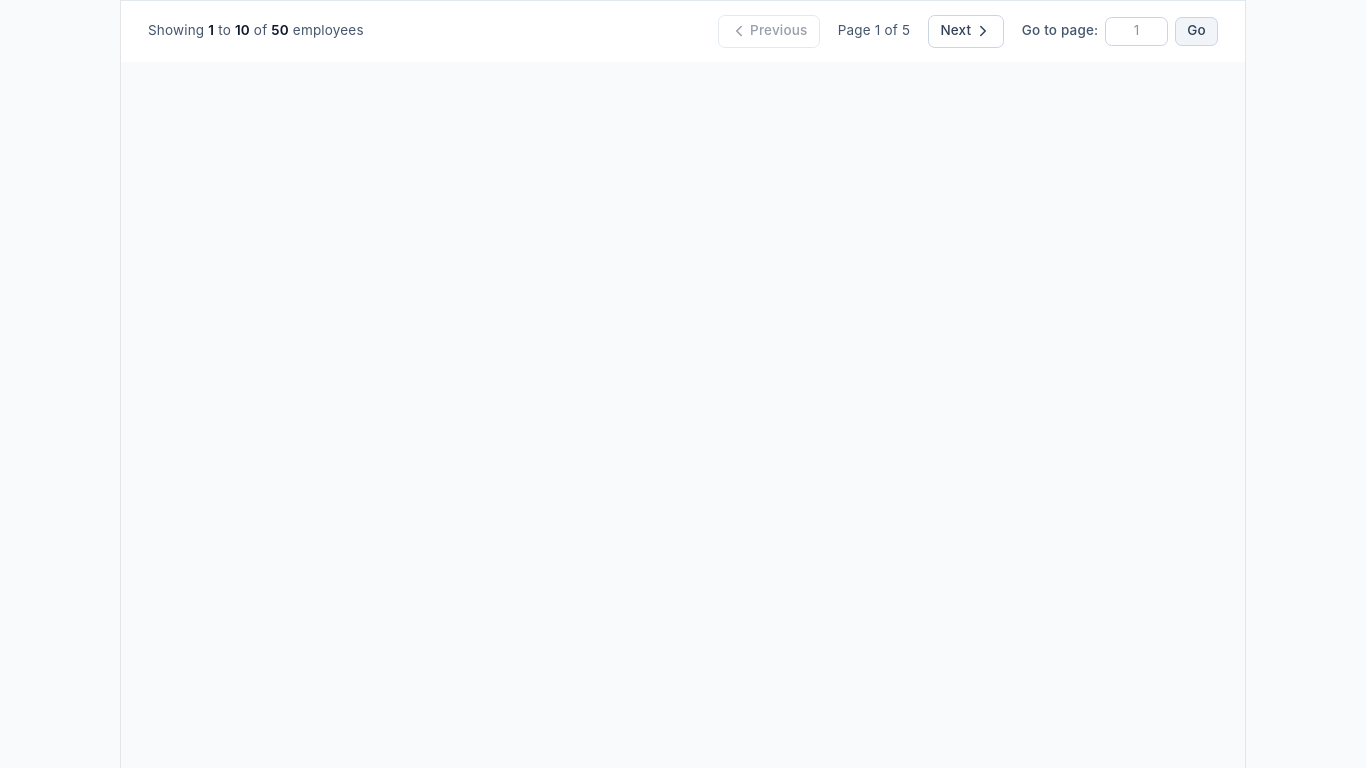
Test case: Pagination Component › clears validation error when user begins typing again
Step 1. Type "99" into the field named "page number" → [1137, 31], box [1105, 17, 1168, 46]
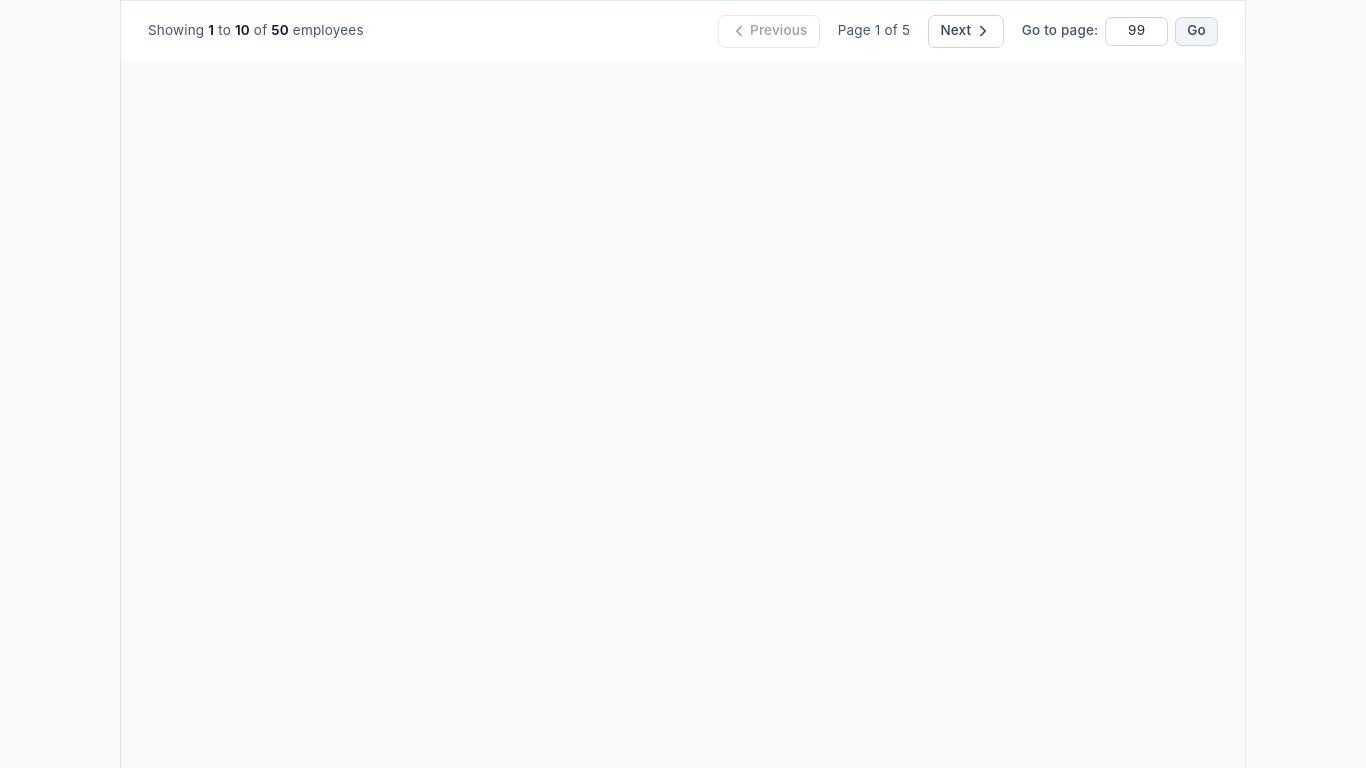
Step 2. Click the button "Go" → [1196, 31], box [1175, 17, 1218, 46]
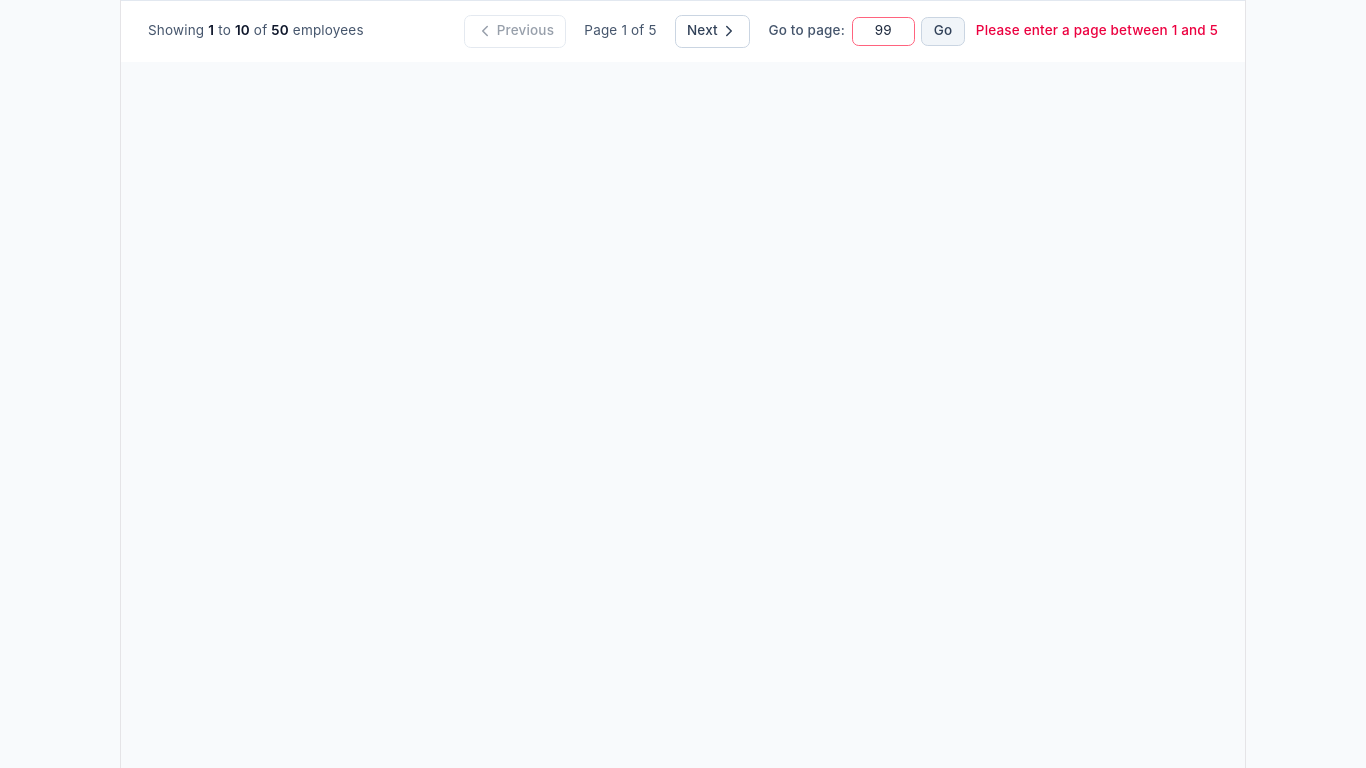
Expected: the message "Please enter a page between 1 and 5" is shown, [976, 22, 1218, 40]
// Type again
Step 3. Replace the text in the field named "page number" with "2" → [883, 31], box [852, 17, 915, 46]
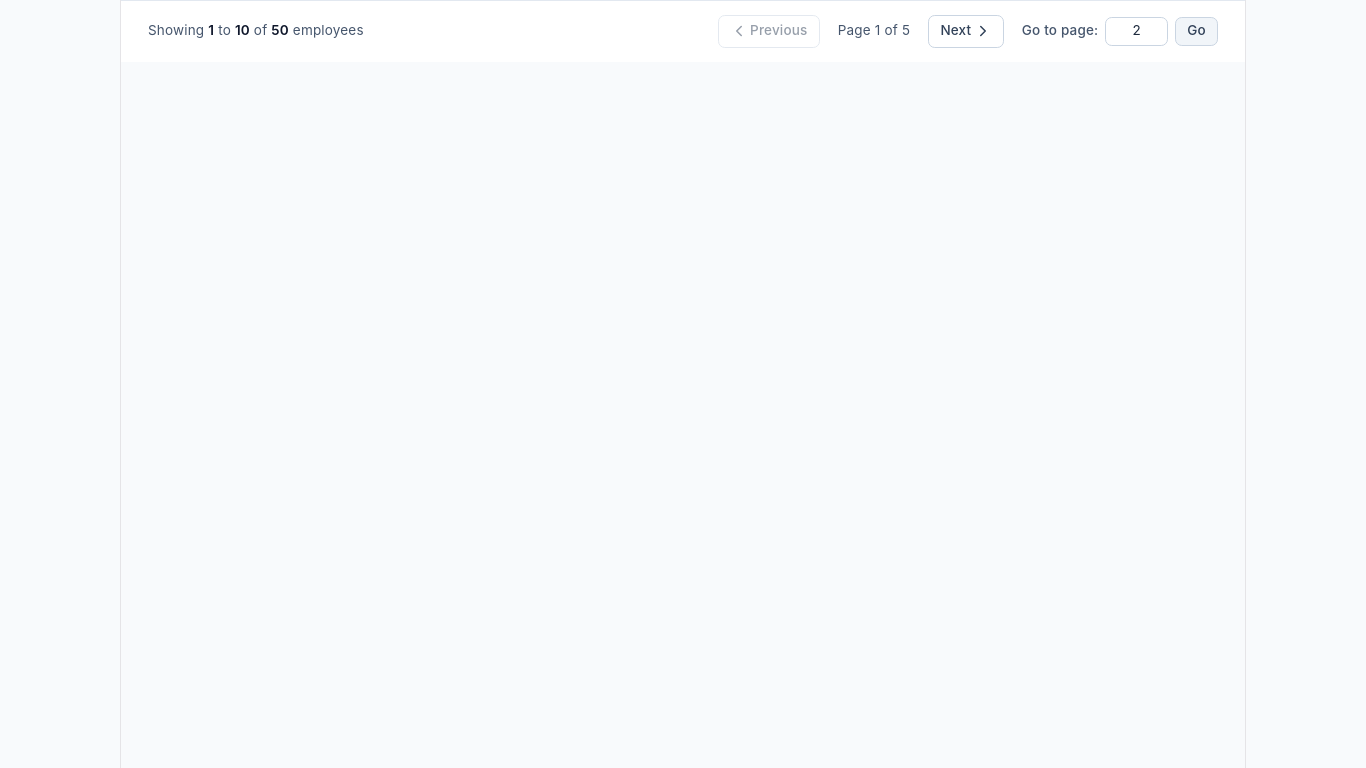
Expected: the message "Please enter a page between 1 and 5" is gone
